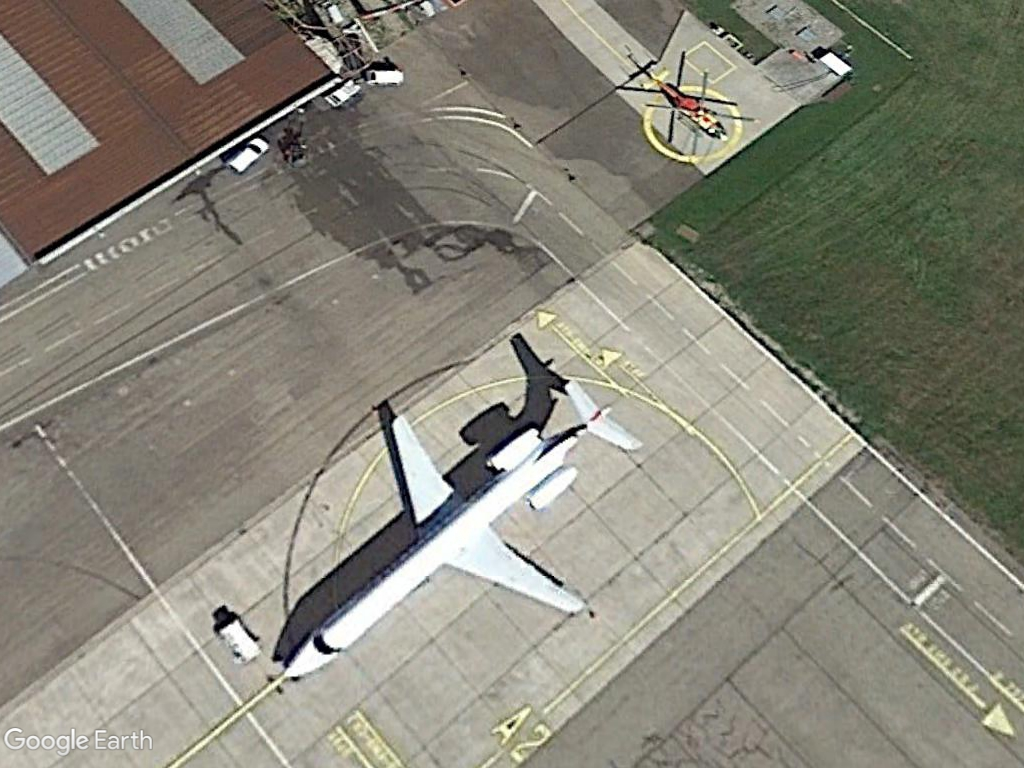chartered: (277, 375, 642, 686)
